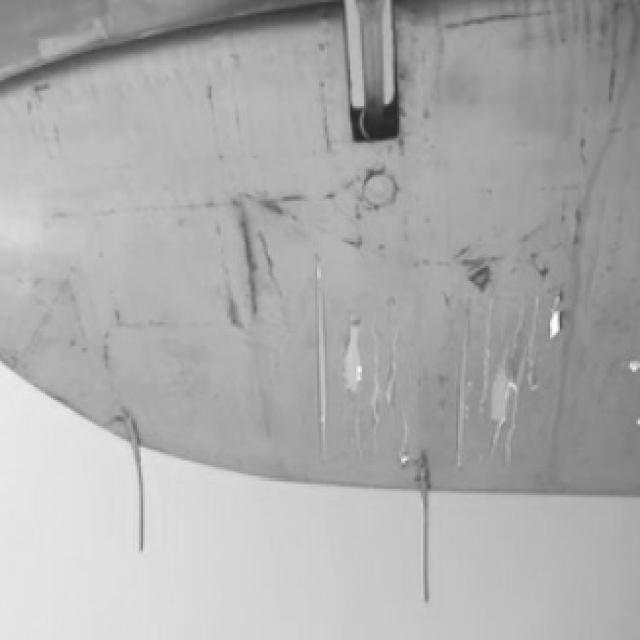crack: (311, 253, 548, 465)
